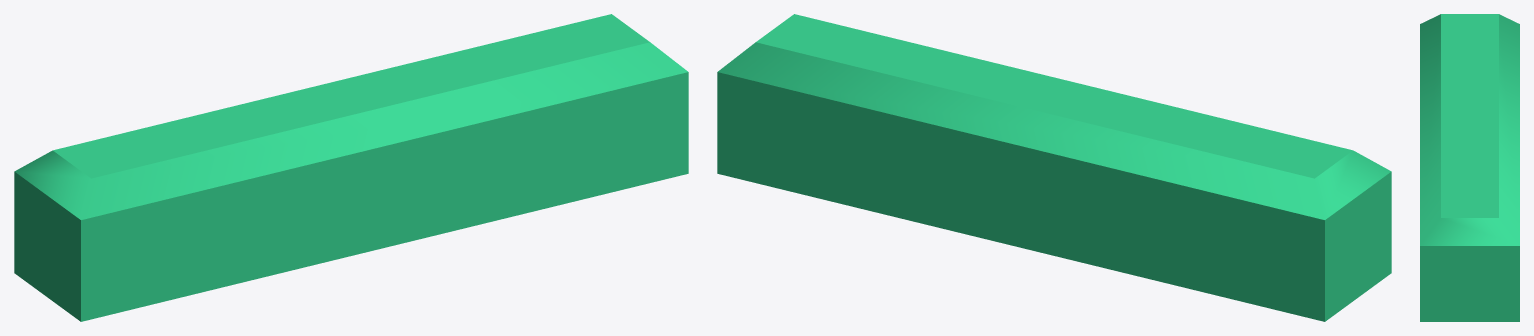
File: hedge.glb
The picture shows the model from 3 angles, left to right: view 1: azimuth 30°, elevation 25°; view 2: azimuth 150°, elevation 25°; view 3: azimuth 270°, elevation 25°; orthographic projection. The views are drawn at different scales.
Parts seen in each view (by area): view 1: hedge; view 2: hedge; view 3: hedge.
Part boxes in pixels (left/top/right/bottom): hedge: left=14, top=14, right=688, bottom=321; hedge: left=717, top=14, right=1391, bottom=321; hedge: left=1420, top=14, right=1519, bottom=321.
Bounding box in the file's own units: 1 × 0.2 × 0.19.
